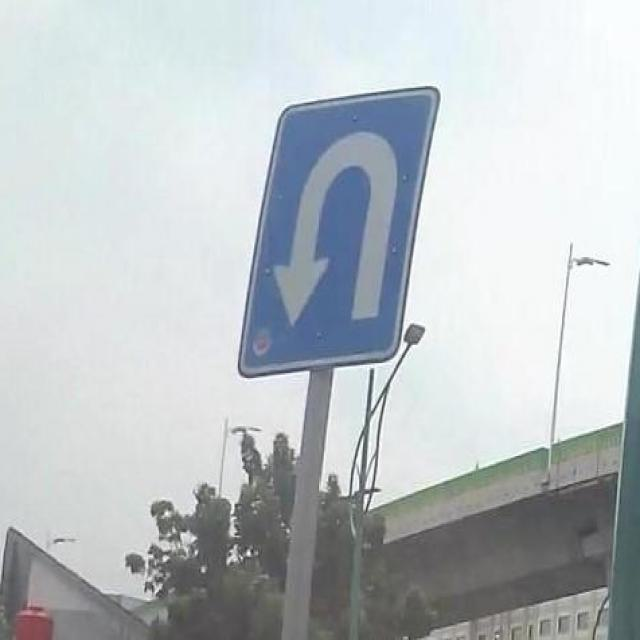U-turn: (241, 91, 417, 370)
